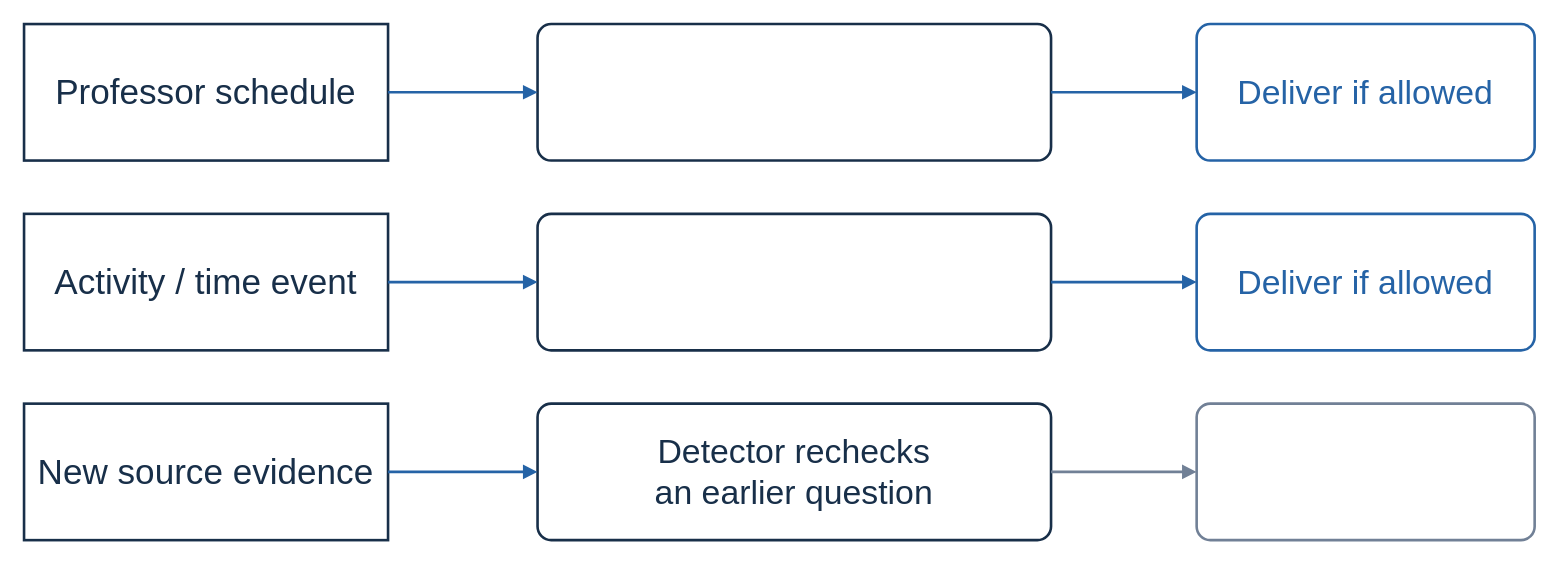
Image size: 1557x563. Some labels were removed from this diagram. The centre of each missing label's shape, as x and y in pixels:
"Model proposes an action Code authorizes it" belongs at [794,281].
"Professor writes the message Code checks delivery" belongs at [794,91].
"Record only No message sent" belongs at [1365,471].
